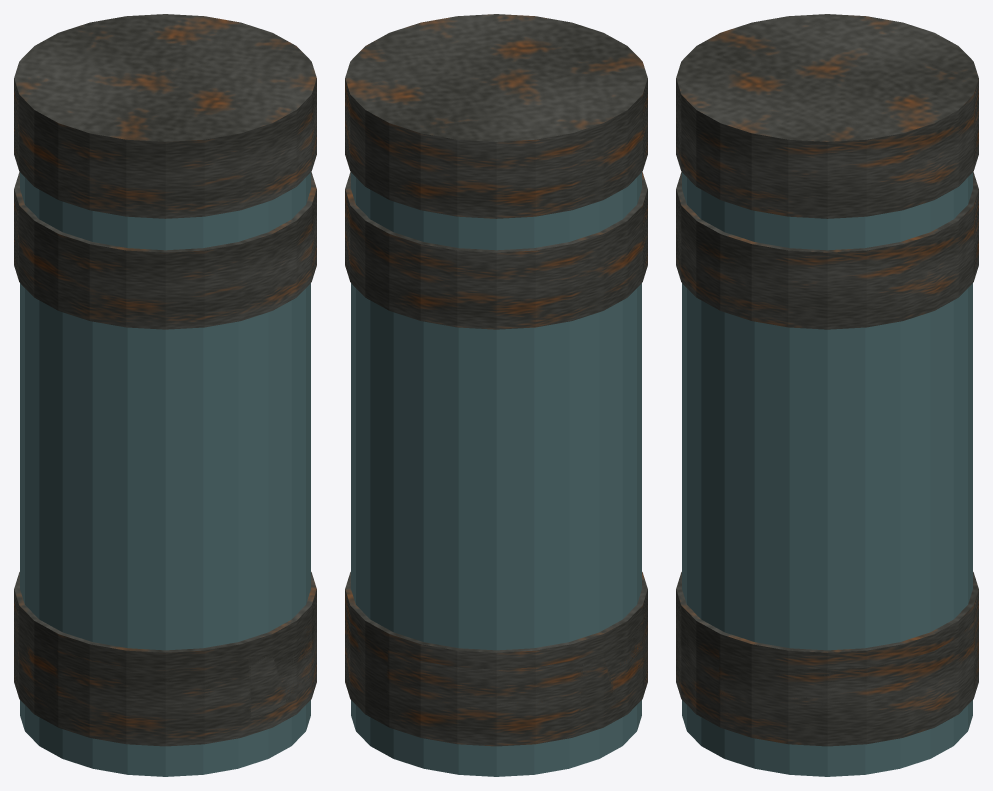
The model's file is sekering.glb.
3 views of the same model, side by side, from view 1: azimuth 30°, elevation 25°; view 2: azimuth 150°, elevation 25°; view 3: azimuth 270°, elevation 25° (orthographic).
Visible parts, largest first — view 1: Badan.001, Cincin.007, Cincin.006, Cincin.004, Cincin.005; view 2: Badan.001, Cincin.007, Cincin.006, Cincin.004, Cincin.005; view 3: Badan.001, Cincin.007, Cincin.006, Cincin.004, Cincin.005.
Part boxes in pixels (box(x1,y1,x2,y2)): Badan.001: box(20, 172, 310, 776); Cincin.007: box(14, 14, 316, 218); Cincin.006: box(14, 172, 316, 329); Cincin.004: box(14, 606, 316, 746); Cincin.005: box(14, 572, 316, 717); Badan.001: box(351, 172, 641, 776); Cincin.007: box(345, 14, 647, 218); Cincin.006: box(345, 172, 647, 329); Cincin.004: box(345, 606, 647, 746); Cincin.005: box(345, 572, 647, 718); Badan.001: box(682, 172, 972, 776); Cincin.007: box(676, 14, 978, 218); Cincin.006: box(676, 172, 978, 329); Cincin.004: box(676, 606, 978, 746); Cincin.005: box(676, 572, 978, 722).
Bounding box in the file's own units: 0.025 × 0.058 × 0.025.
2 materials, 1 textured.
